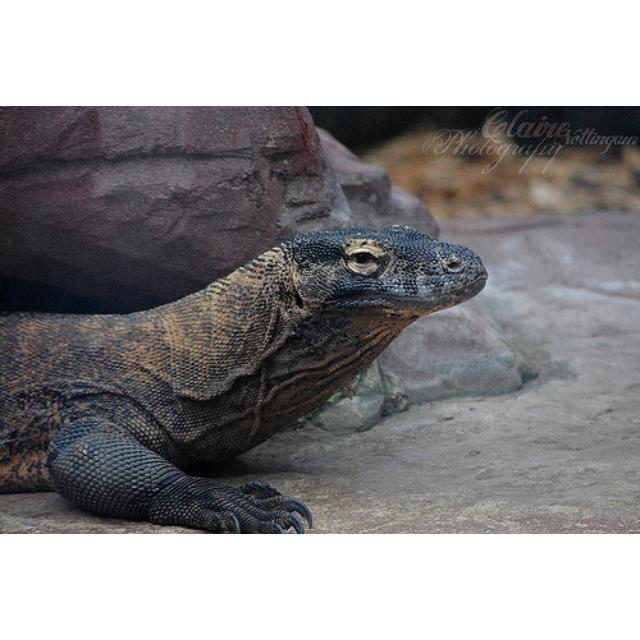KomodoDragon: (0, 223, 488, 532)
